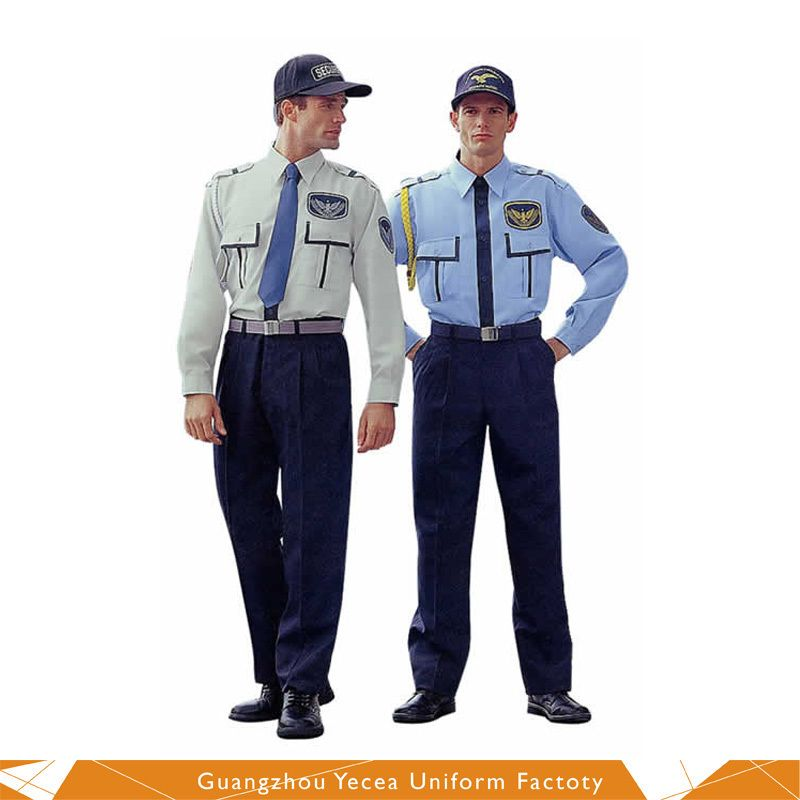uniform: (393, 169, 580, 668), (201, 157, 374, 662)
